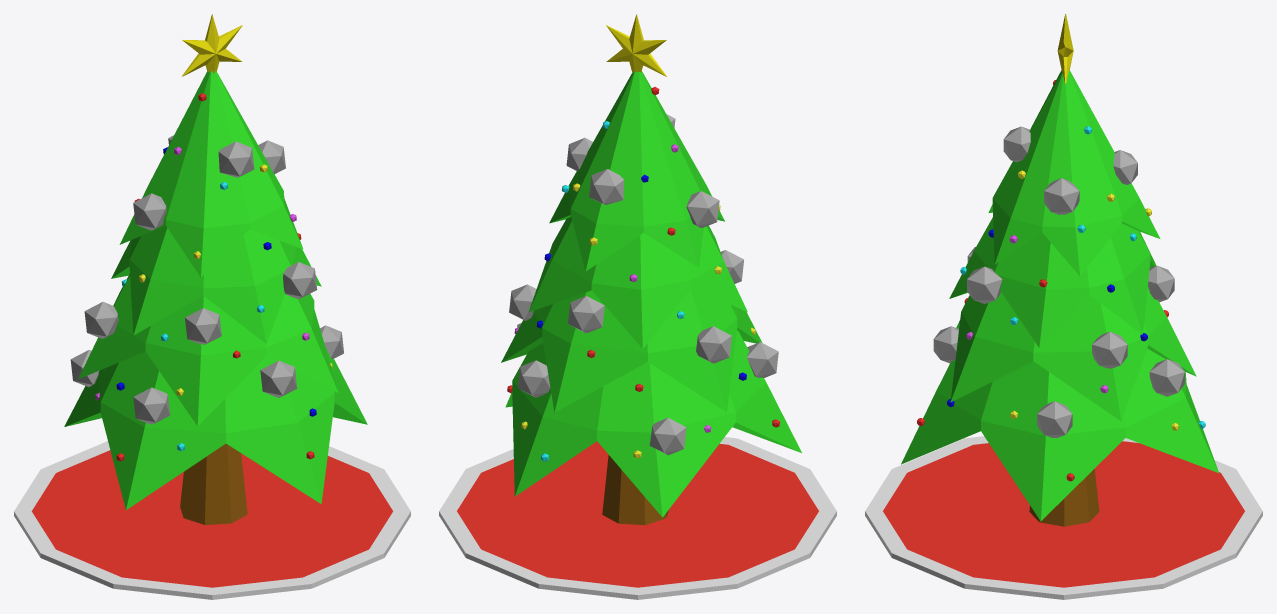
File: Tree_2.fbx
The picture shows the model from 3 angles, left to right: view 1: azimuth 30°, elevation 25°; view 2: azimuth 150°, elevation 25°; view 3: azimuth 270°, elevation 25°; orthographic projection.
Parts seen in each view (by area): view 1: Cylinder.016; view 2: Cylinder.016; view 3: Cylinder.016.
Part boxes in pixels (x1,y1,x2,y2): Cylinder.016: [14, 14, 410, 599]; Cylinder.016: [439, 14, 836, 599]; Cylinder.016: [865, 14, 1262, 599].
Size of the model in its own units: 2603 by 3627 by 2603.
